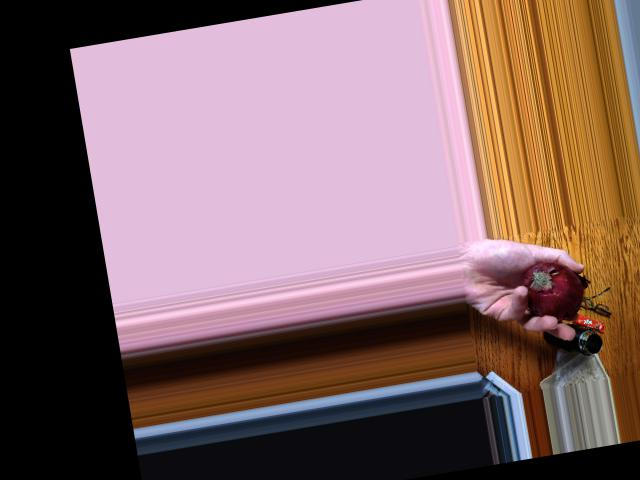onion: (526, 258, 586, 322)
